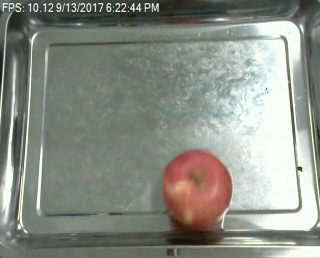Apple: (161, 149, 234, 229)
